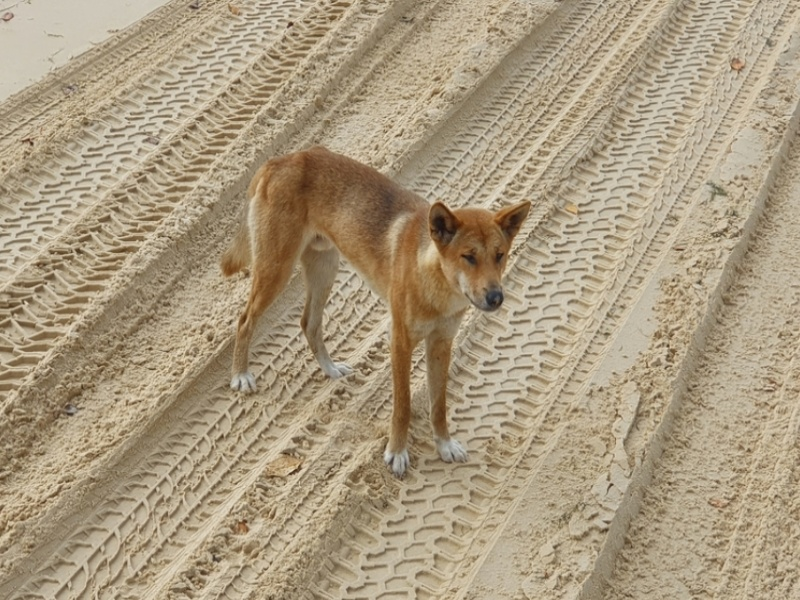dog: (215, 143, 538, 487)
